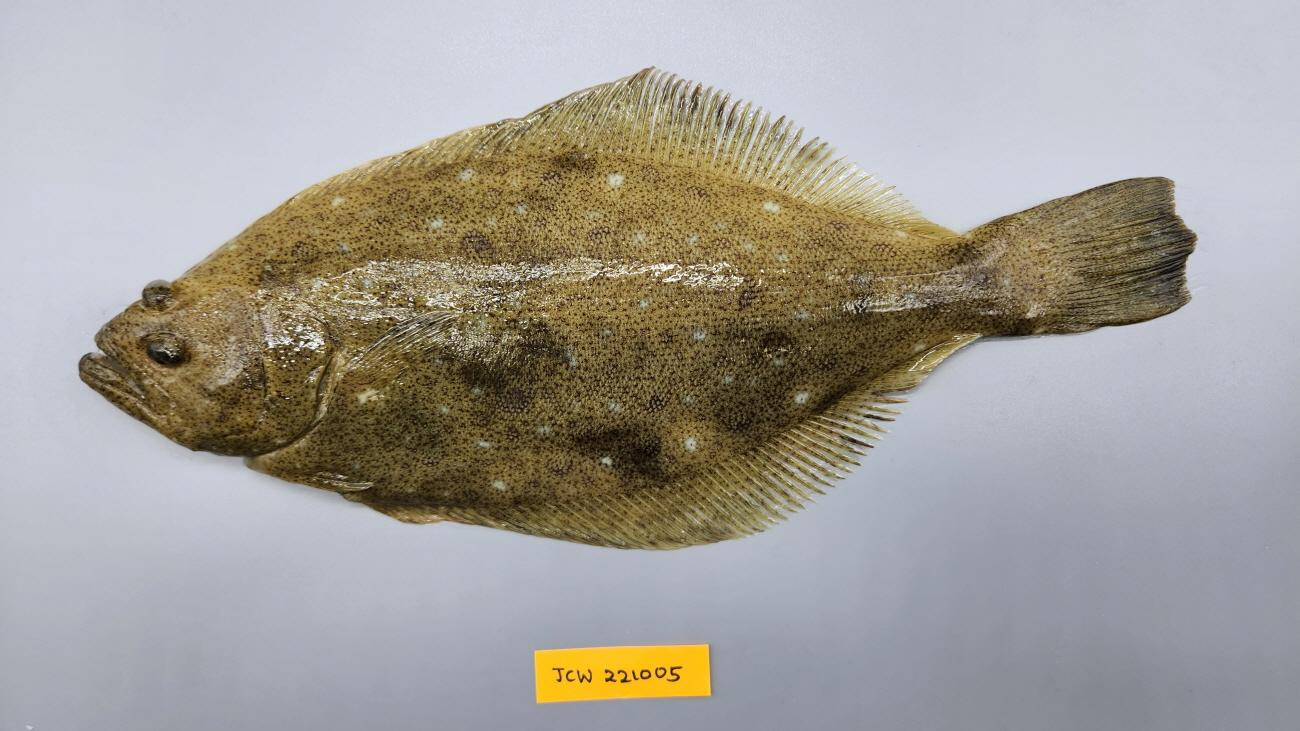POOUN: (78, 67, 1198, 552)
